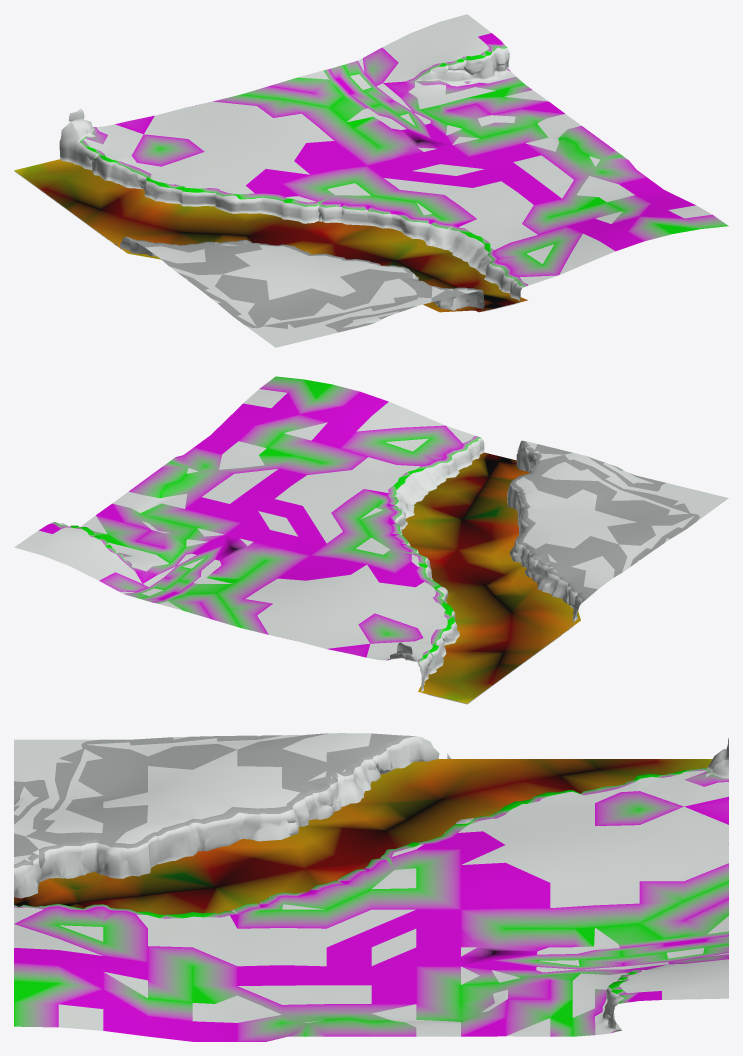
3 renders of one model, top to bottom at view 1: azimuth 30°, elevation 25°; view 2: azimuth 150°, elevation 25°; view 3: azimuth 270°, elevation 25°, orthographic. The views are drawn at different scales.
Parts seen in each view (by area): view 1: G:\FFXIV-MapTools\exports\f1f1\bg\ffxiv\fst_f1\fld\f1f1\bgpl (×14); view 2: G:\FFXIV-MapTools\exports\f1f1\bg\ffxiv\fst_f1\fld\f1f1\bgpl (×13); view 3: G:\FFXIV-MapTools\exports\f1f1\bg\ffxiv\fst_f1\fld\f1f1\bgpl (×14).
Boxes of the visible parts, <box> form: G:\FFXIV-MapTools\exports\f1f1\bg\ffxiv\fst_f1\fld\f1f1\bgpl (×14): <box>14,14,728,347</box>; G:\FFXIV-MapTools\exports\f1f1\bg\ffxiv\fst_f1\fld\f1f1\bgpl (×13): <box>14,376,728,703</box>; G:\FFXIV-MapTools\exports\f1f1\bg\ffxiv\fst_f1\fld\f1f1\bgpl (×14): <box>14,733,728,1041</box>.
Bounding box in the file's own units: 128 × 12.53 × 128.
